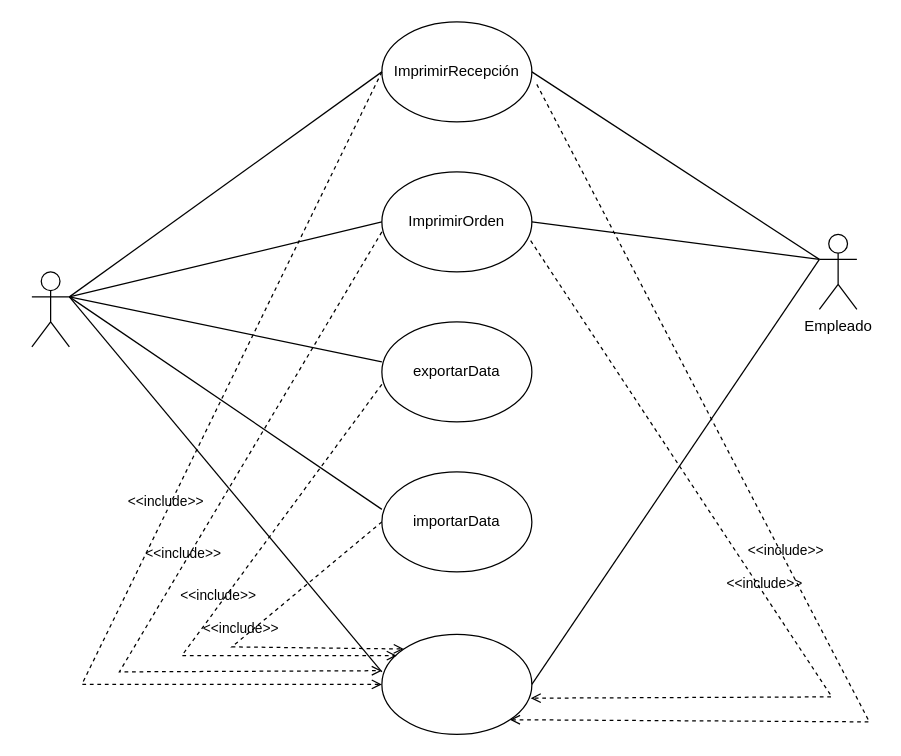
The diagram is 901 pixels wide and 756 high, and some of its shapes have lost their labels. The shapes that lost their labels are listed below. From the top down, each one's box as (x1, y1, x2, y2) in pixels, then its label:
(31, 271, 69, 347): Manager
(381, 633, 532, 734): LogIn
